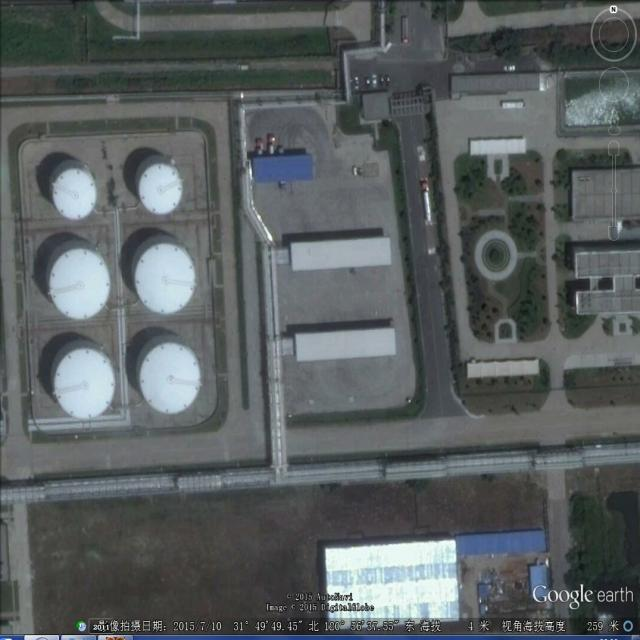oiltank: (45, 336, 119, 423), (128, 232, 201, 319), (132, 330, 203, 418), (43, 238, 114, 324), (47, 155, 101, 224), (133, 151, 186, 220)
